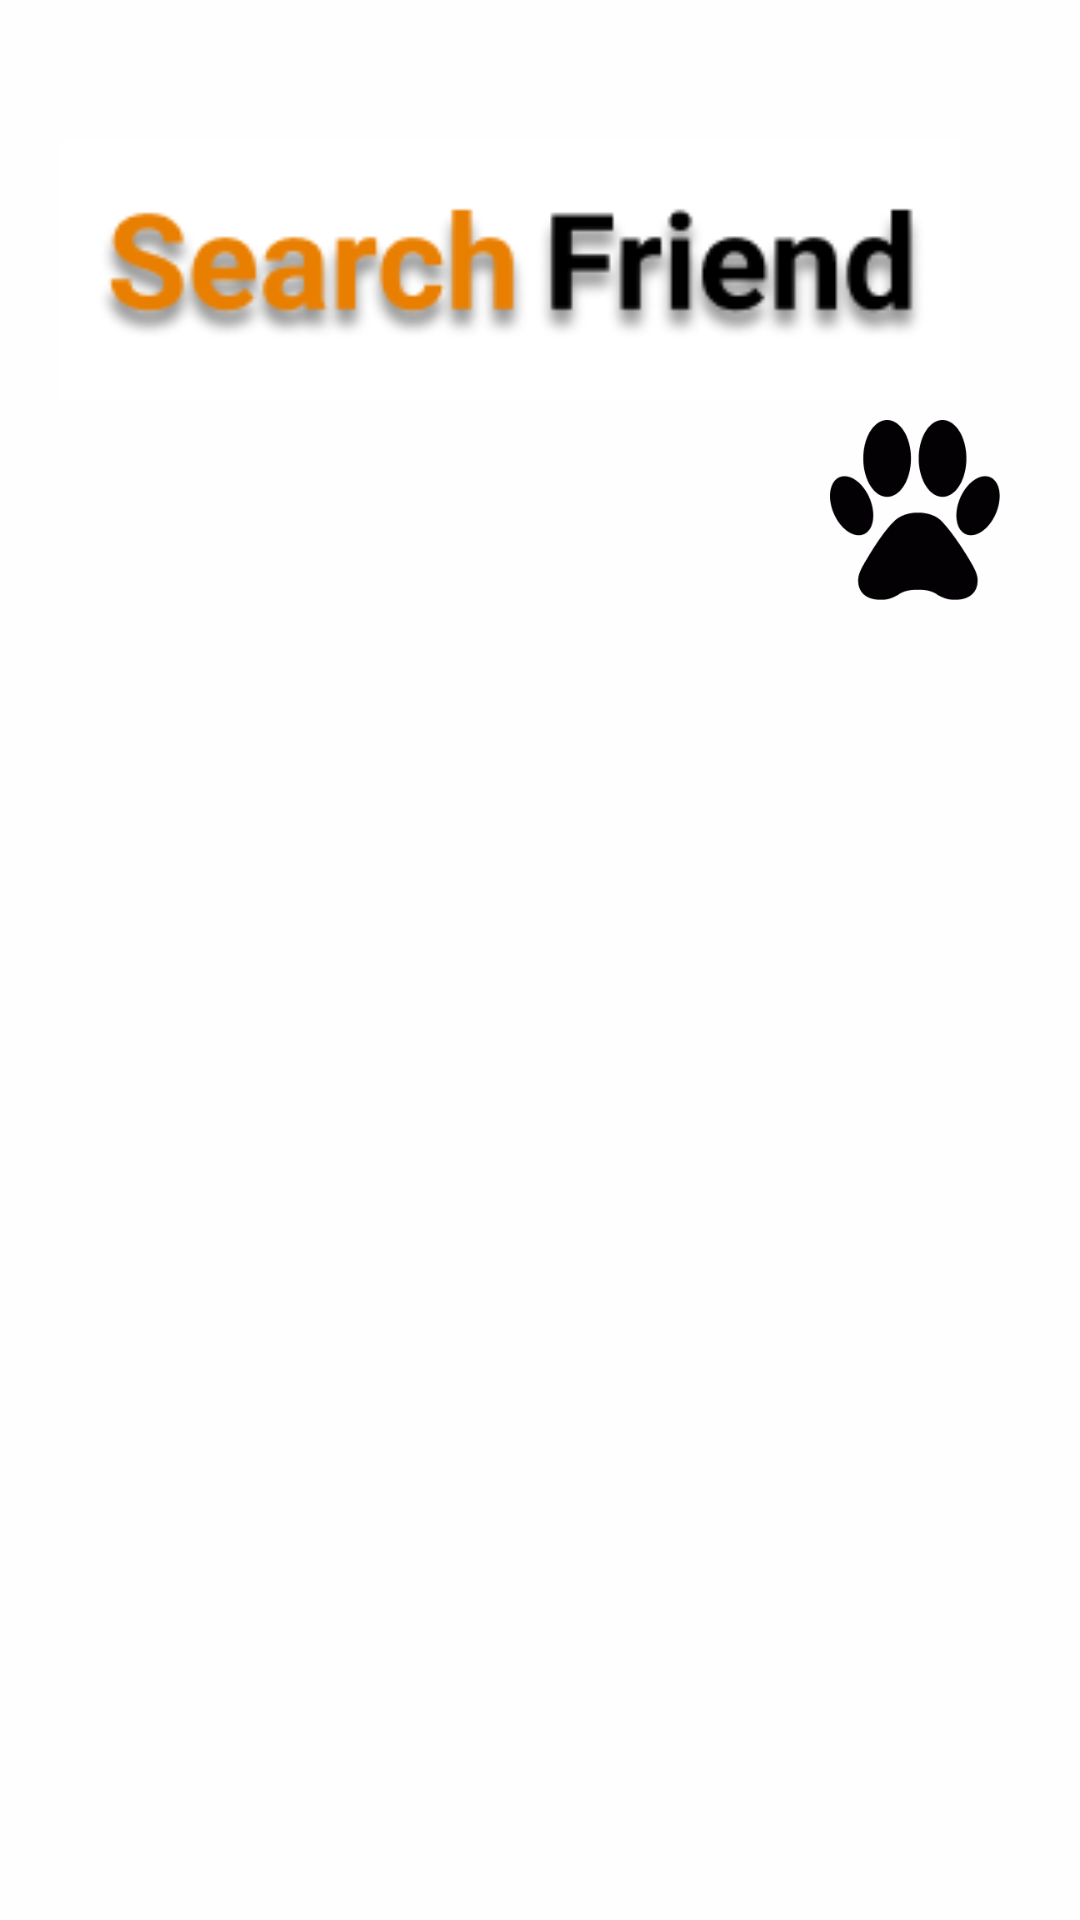

Point at icon controls on the screen. Image size 1080 × 1920, points as point (x, y).
paw: point (915, 510)
